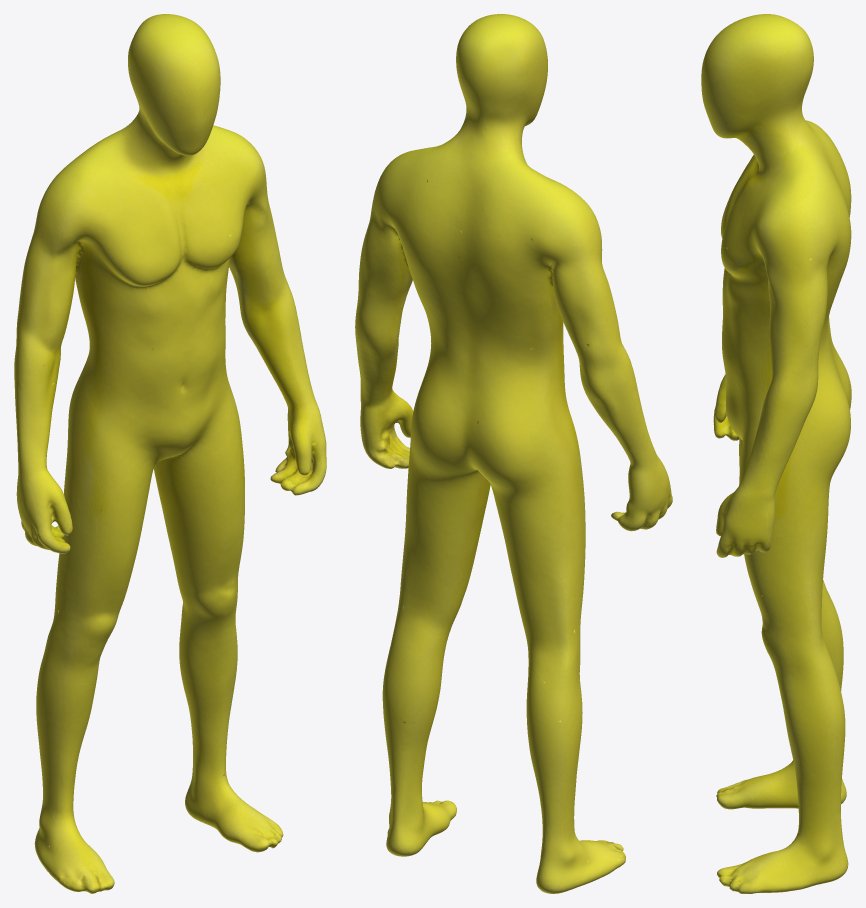
Rendered from YELLOW_MAN.glb.
The picture shows the model from 3 angles, left to right: view 1: azimuth 30°, elevation 25°; view 2: azimuth 150°, elevation 25°; view 3: azimuth 270°, elevation 25°; orthographic projection.
Bounding box in the file's own units: 0.7487 × 2 × 0.3288.
1 material, 1 textured.
